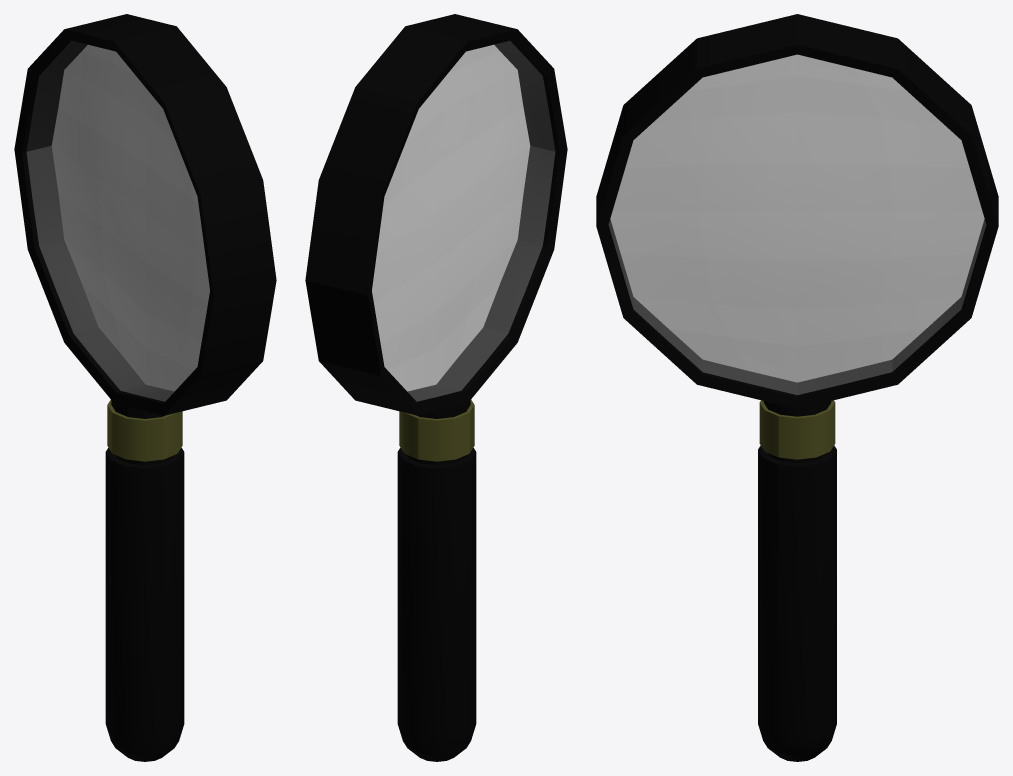
File: лупа.fbx
The picture shows the model from 3 angles, left to right: view 1: azimuth 30°, elevation 25°; view 2: azimuth 150°, elevation 25°; view 3: azimuth 270°, elevation 25°; orthographic projection.
Parts seen in each view (by area): view 1: Cube; view 2: Cube; view 3: Cube.
Boxes of the visible parts, x1=… form: Cube: x1=14, y1=14, x2=276, y2=761; Cube: x1=305, y1=14, x2=567, y2=761; Cube: x1=596, y1=14, x2=998, y2=761.
Bounding box in the file's own units: 303 × 2017 × 1015.
